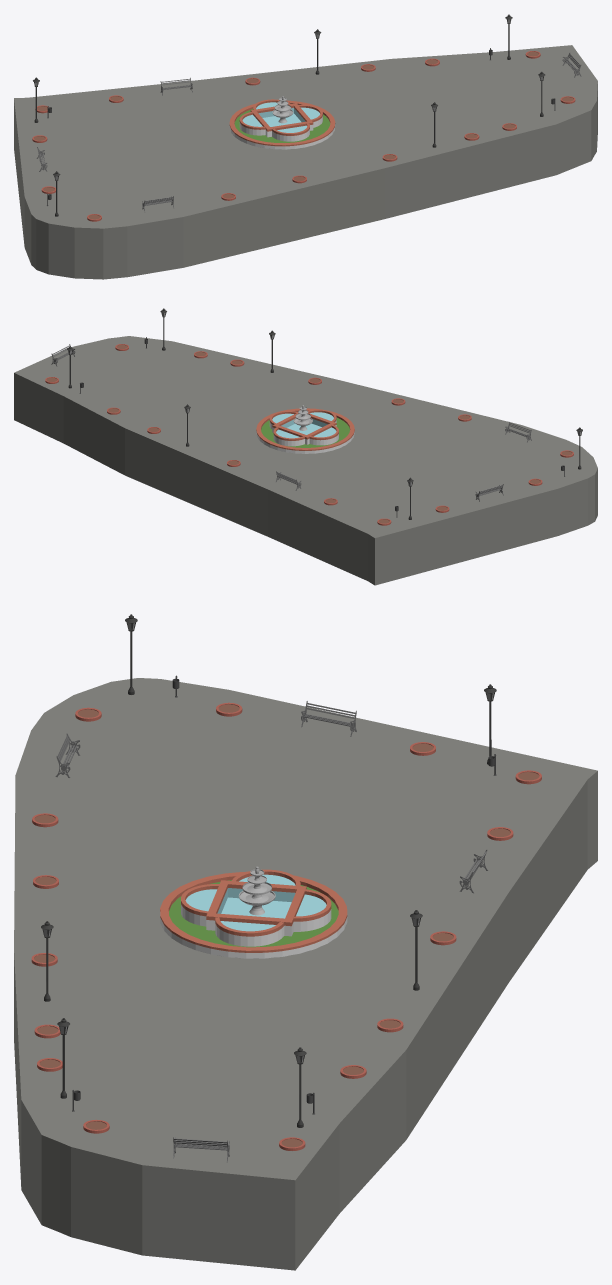
Rendered from 6_Plaza_Veracruz_Isidoro_Gil.fbx.
3 renders of one model, top to bottom at view 1: azimuth 30°, elevation 25°; view 2: azimuth 150°, elevation 25°; view 3: azimuth 270°, elevation 25°, orthographic. The views are drawn at different scales.
Visible parts, largest first — view 1: Suelo, Cube.002; view 2: Suelo, Cube.002; view 3: Suelo, Cube.002.
Boxes of the visible parts, <box> form: Suelo: <box>14,45,597,279</box>; Cube.002: <box>229,96,335,149</box>; Suelo: <box>14,336,597,585</box>; Cube.002: <box>256,405,354,453</box>; Suelo: <box>14,678,597,1270</box>; Cube.002: <box>160,866,347,958</box>.
Size of the model in its own units: 6192 by 975 by 3042.
